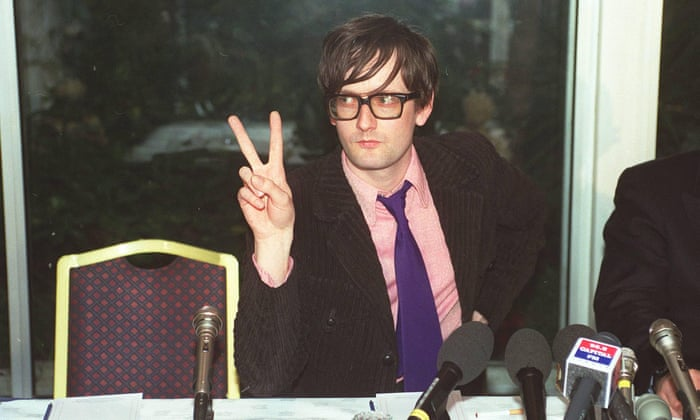v_s: (217, 106, 304, 250)
